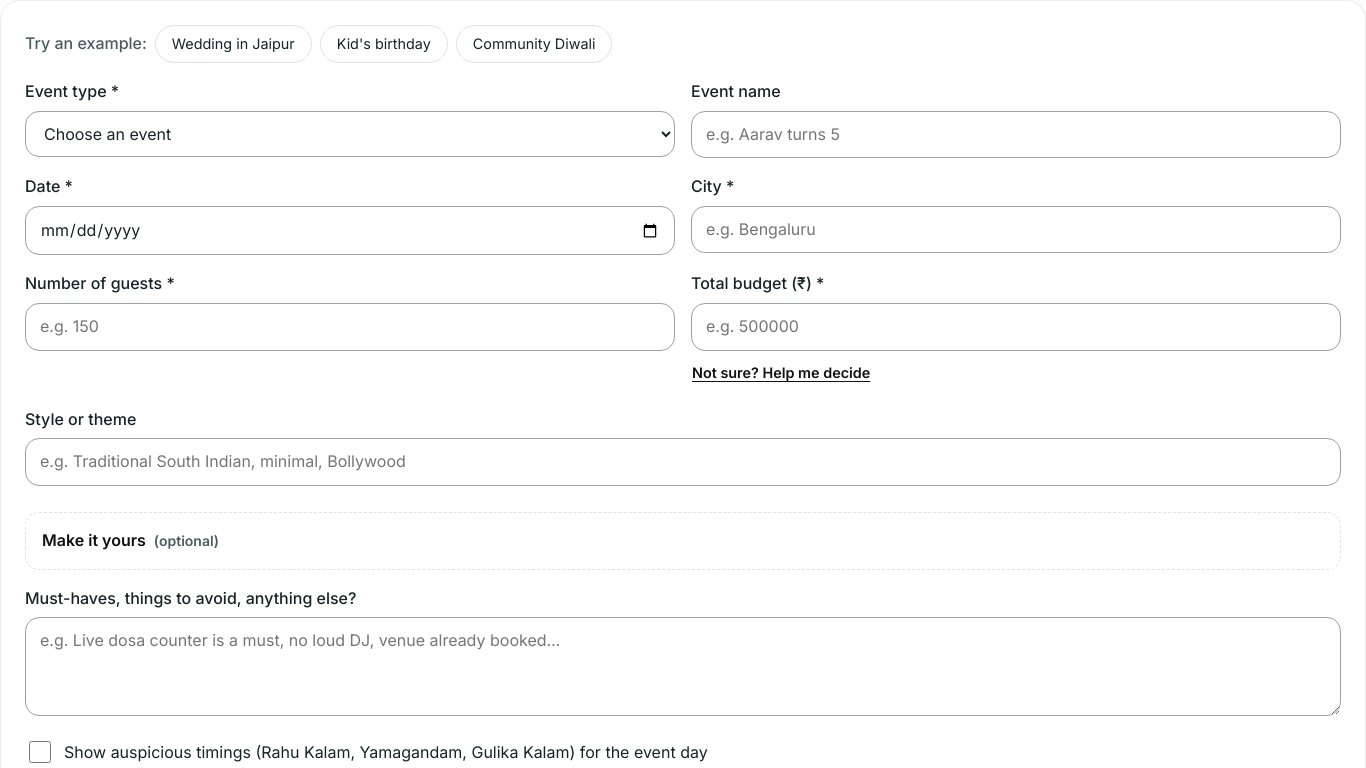
Test: Not sure? Help me decide › shows three levels and fills the budget when one is picked
The image size is (1366, 768).
Step 1. Select "Birthday" in the dropdown labelled "Event type *" → (350, 134), box x1=25 y1=111 x2=675 y2=157
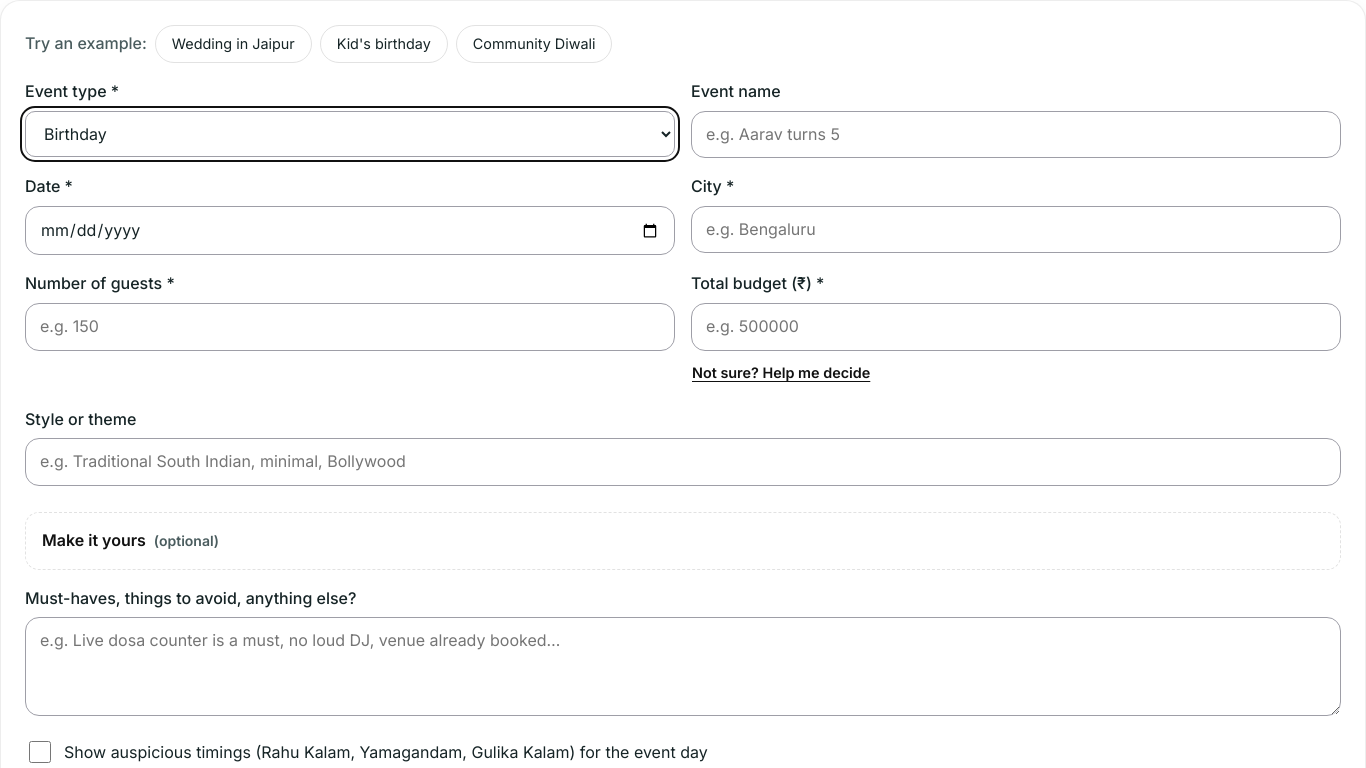
Step 2. Type "40" into the number field labelled "Number of guests *" → (350, 327), box x1=25 y1=303 x2=675 y2=351
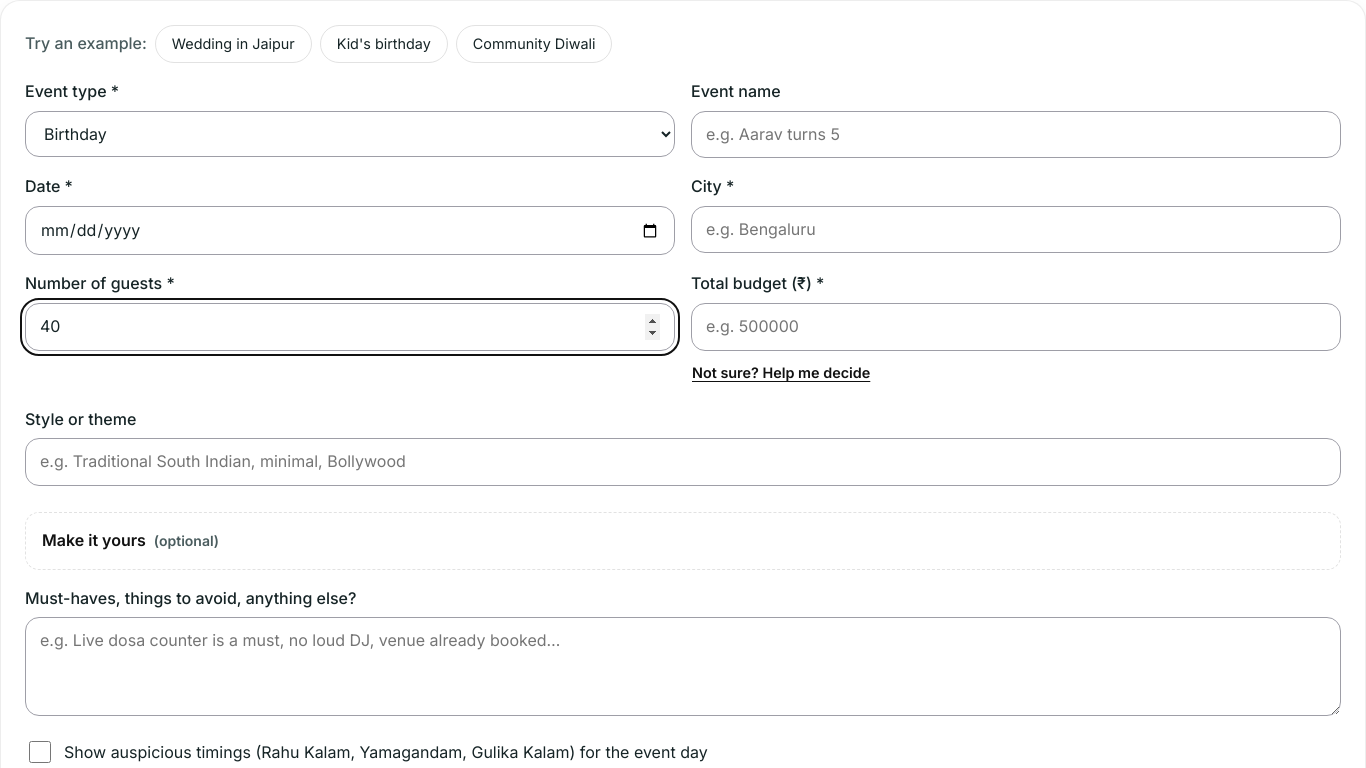
Step 3. Type "Bengaluru" into the field labelled "City *" → (1016, 230), box x1=691 y1=206 x2=1341 y2=253
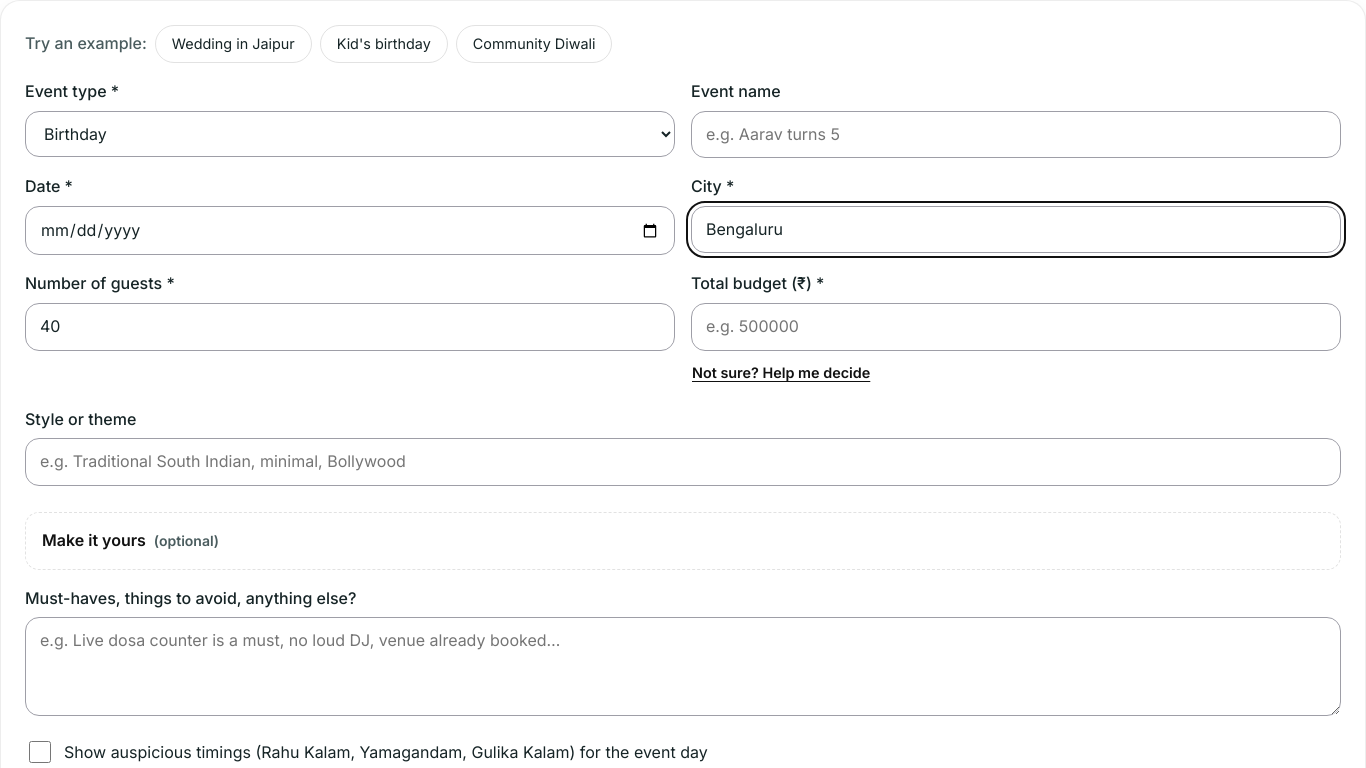
Step 4. Click the button "Not sure? Help me decide" → click(781, 373), box x1=691 y1=355 x2=871 y2=391
(page scrolled)
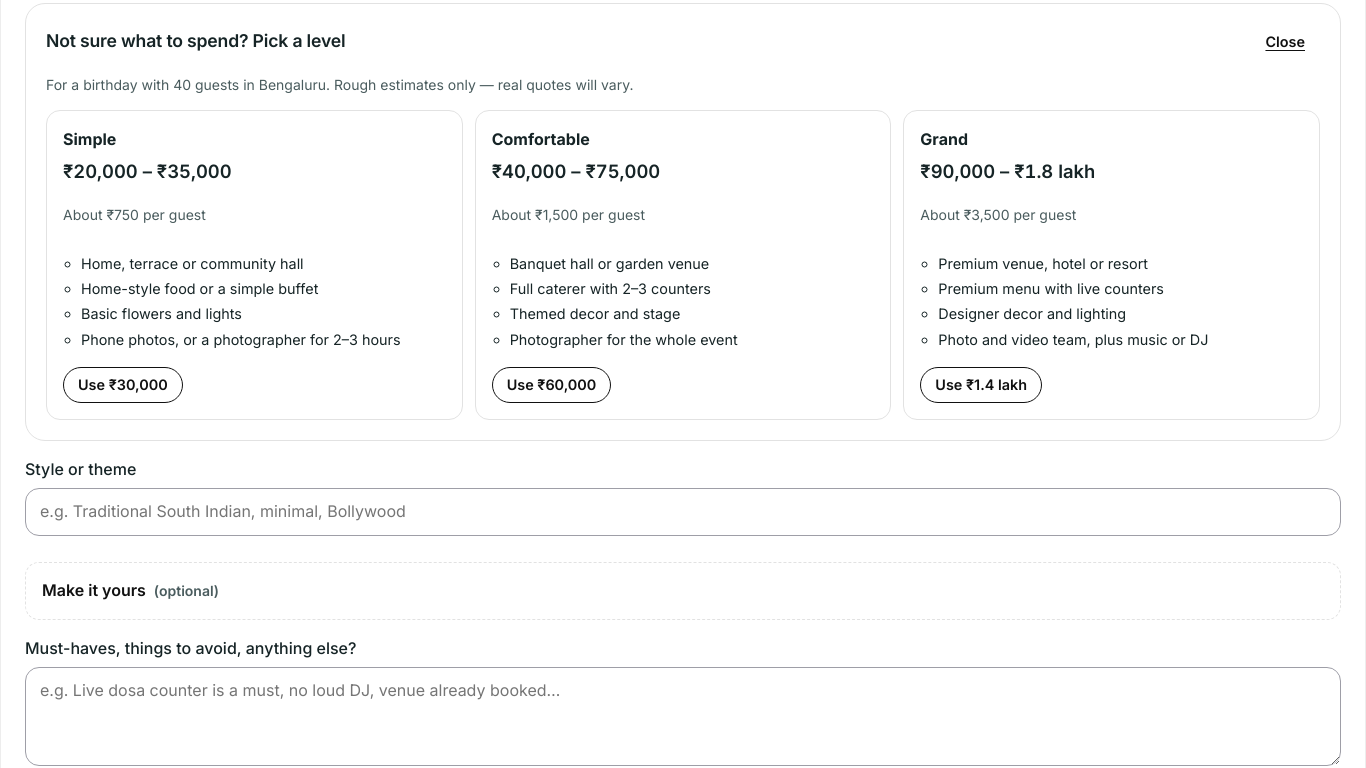
Now the text "Rough estimates only" is shown, box x1=326 y1=76 x2=633 y2=93
Now the headings read "Simple", "Comfortable", "Grand", in this order, box x1=63 y1=129 x2=116 y2=149; x1=492 y1=129 x2=590 y2=149; x1=920 y1=129 x2=968 y2=149
Step 5. Click the button "Use ₹60,000" → click(552, 385), box x1=492 y1=367 x2=611 y2=403
(page scrolled)
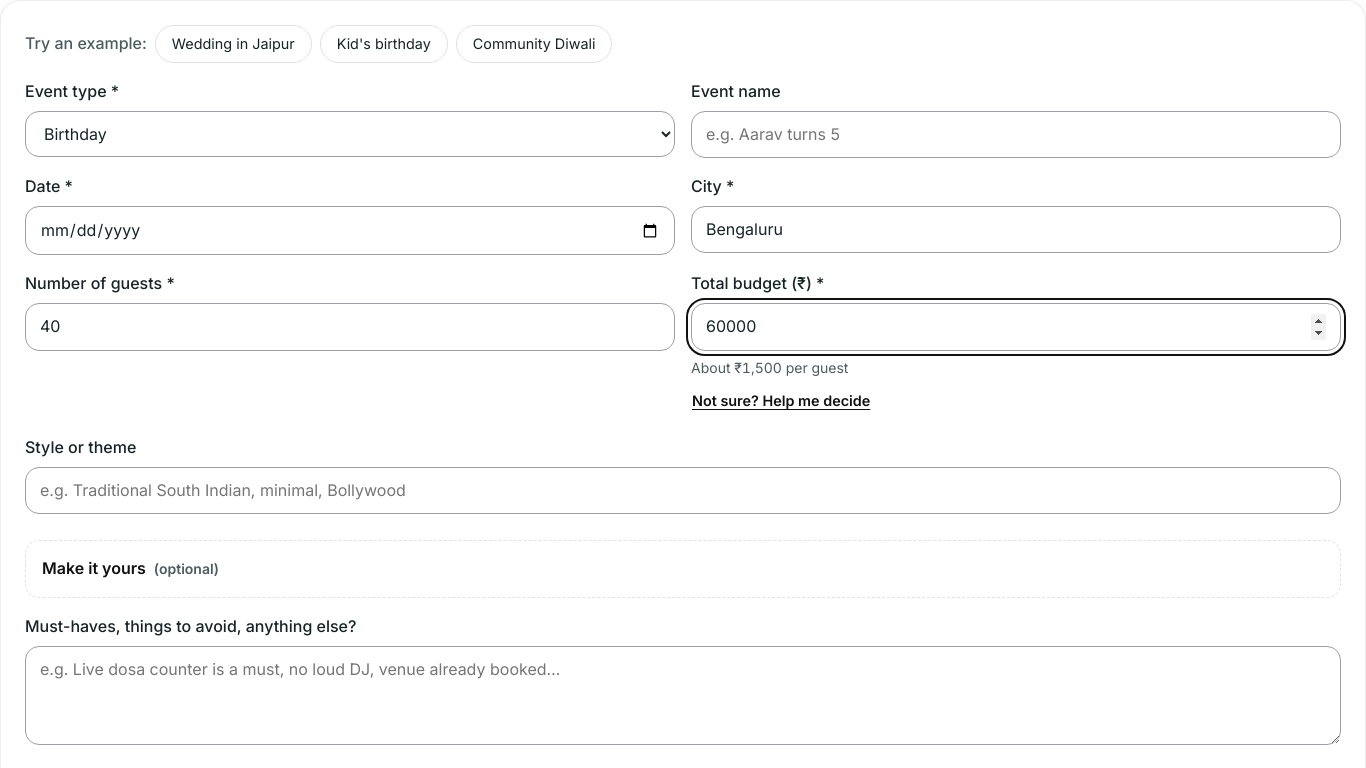
Now the heading "Pick a level" is gone
Now the text "About ₹1,500 per guest" is shown, box x1=691 y1=359 x2=848 y2=376
